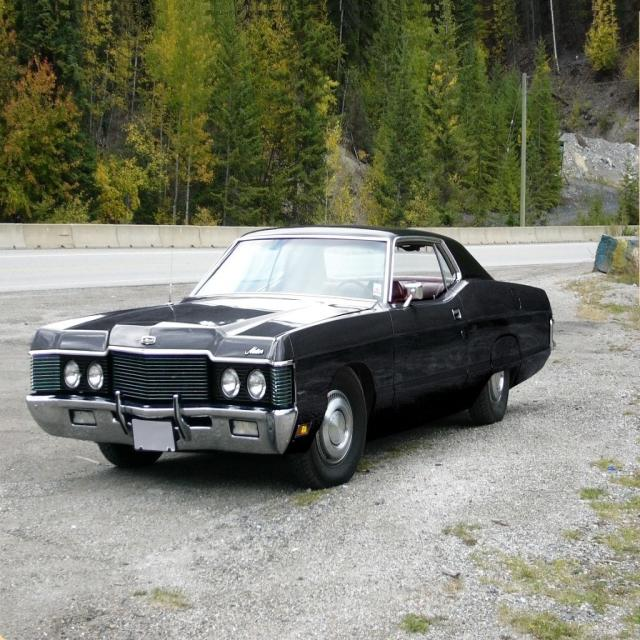car: (26, 221, 558, 482)
